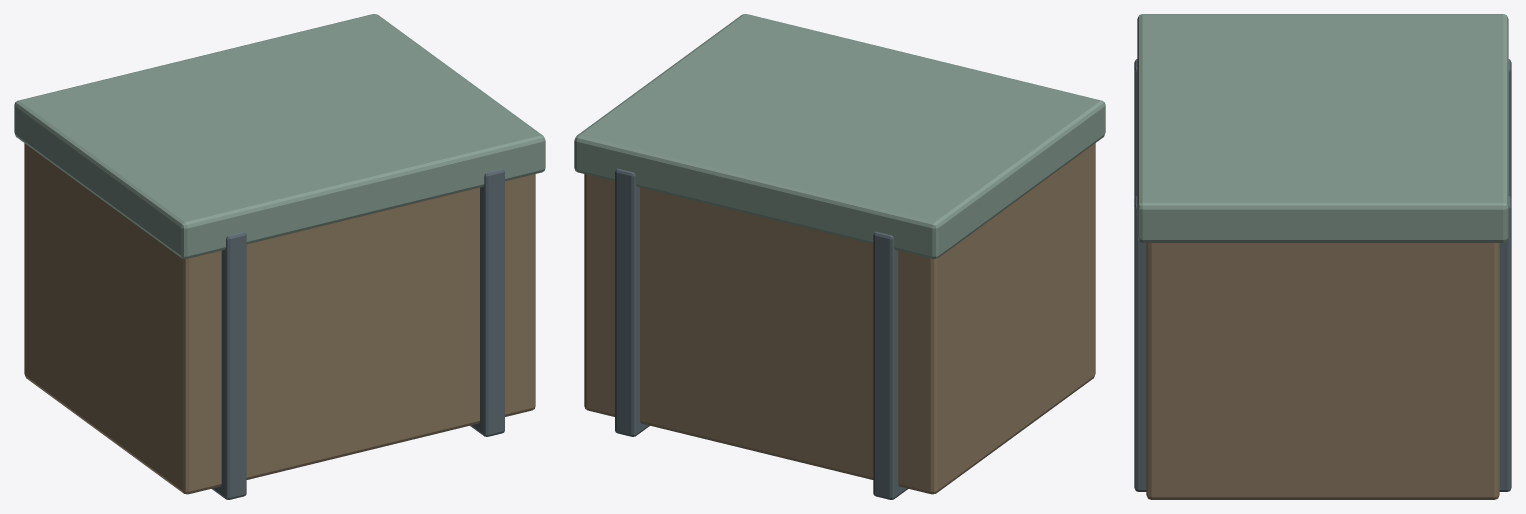
File: supply_cache.glb
3 renders of one model, left to right at view 1: azimuth 30°, elevation 25°; view 2: azimuth 150°, elevation 25°; view 3: azimuth 270°, elevation 25°, orthographic. The views are drawn at different scales.
Parts seen in each view (by area): view 1: supply_cache; view 2: supply_cache; view 3: supply_cache.
Part boxes in pixels (left/top/right/bottom): supply_cache: left=14, top=14, right=545, bottom=499; supply_cache: left=574, top=14, right=1105, bottom=499; supply_cache: left=1134, top=14, right=1511, bottom=499.
Size of the model in its own units: 1.55 by 1.16 by 1.28.
